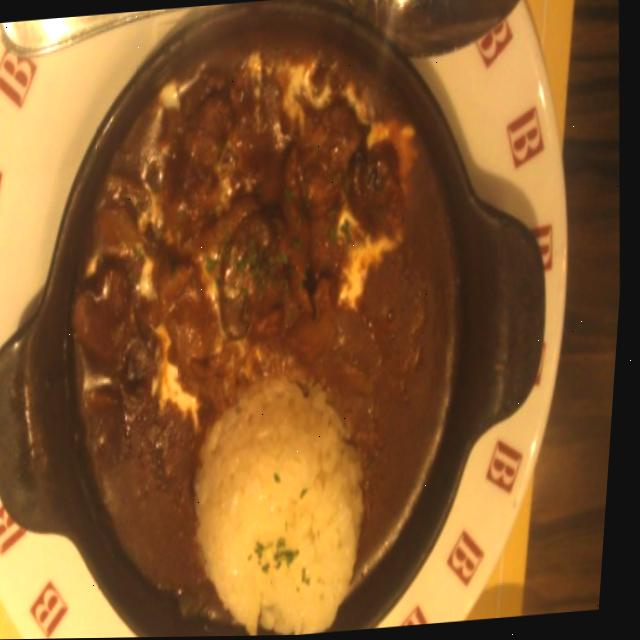牛肉菜式: (6, 0, 551, 640)
